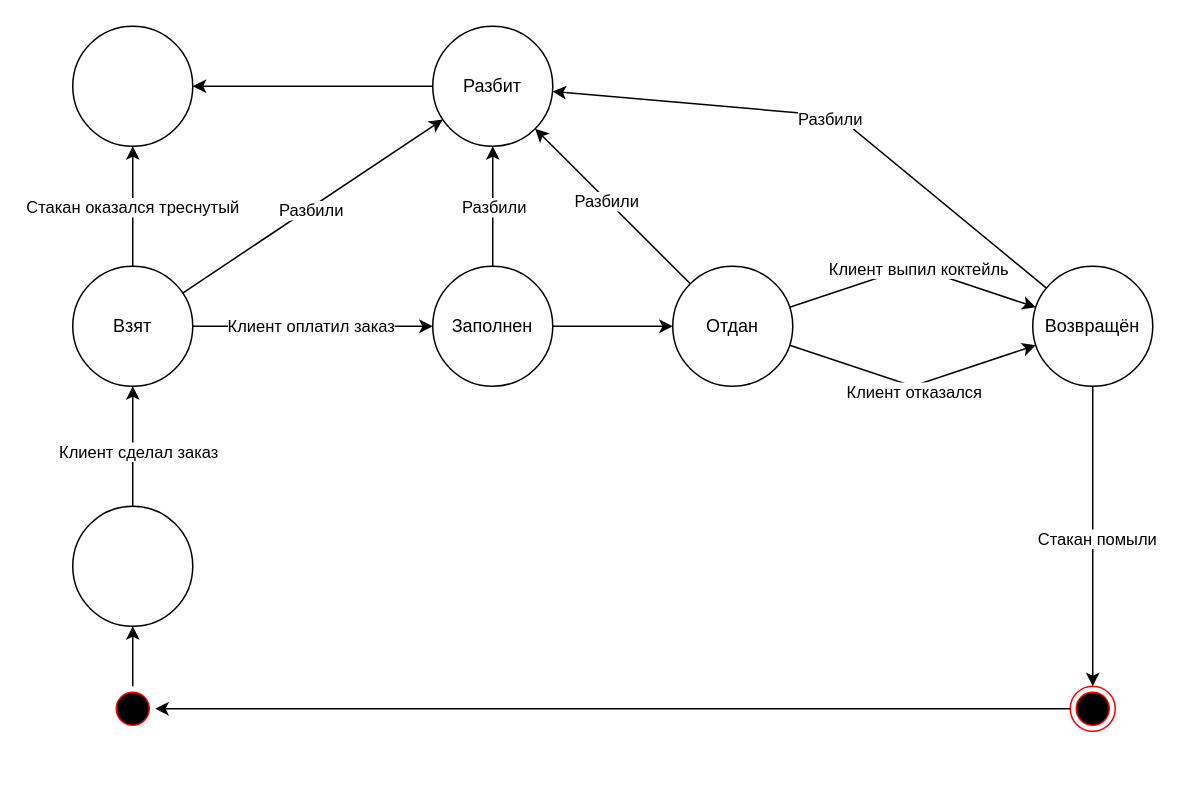
This 1182x785 diagram has some shape labels left out. Each missing label, with the centre of its shape:
"Выкинут" belongs at (132,85).
"Стоит пустой" belongs at (132,565).
